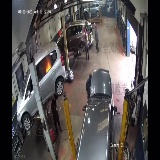fire: (44, 53, 52, 75)
